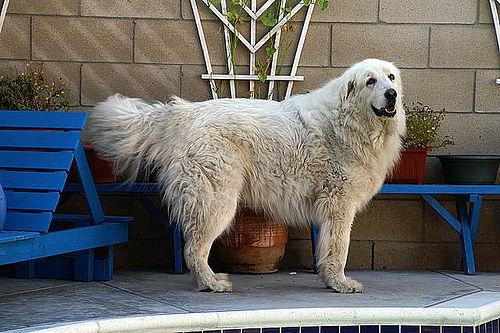dog-great_pyrenees: (334, 57, 400, 116)
